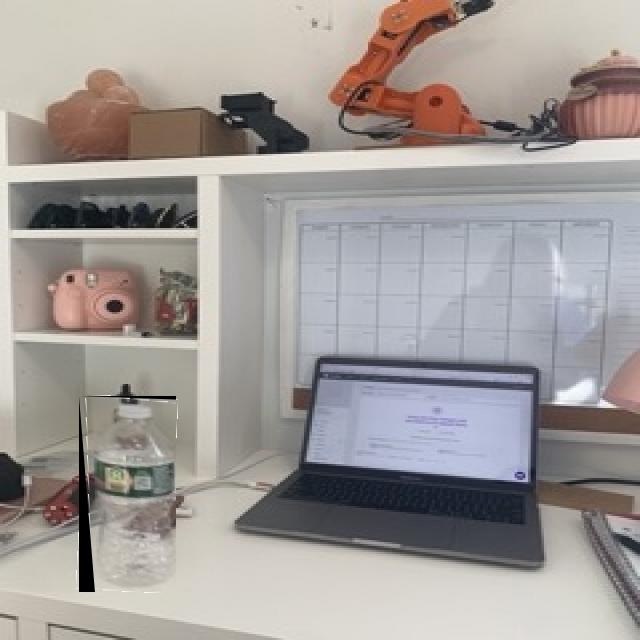water_bottle: (79, 396, 176, 592)
